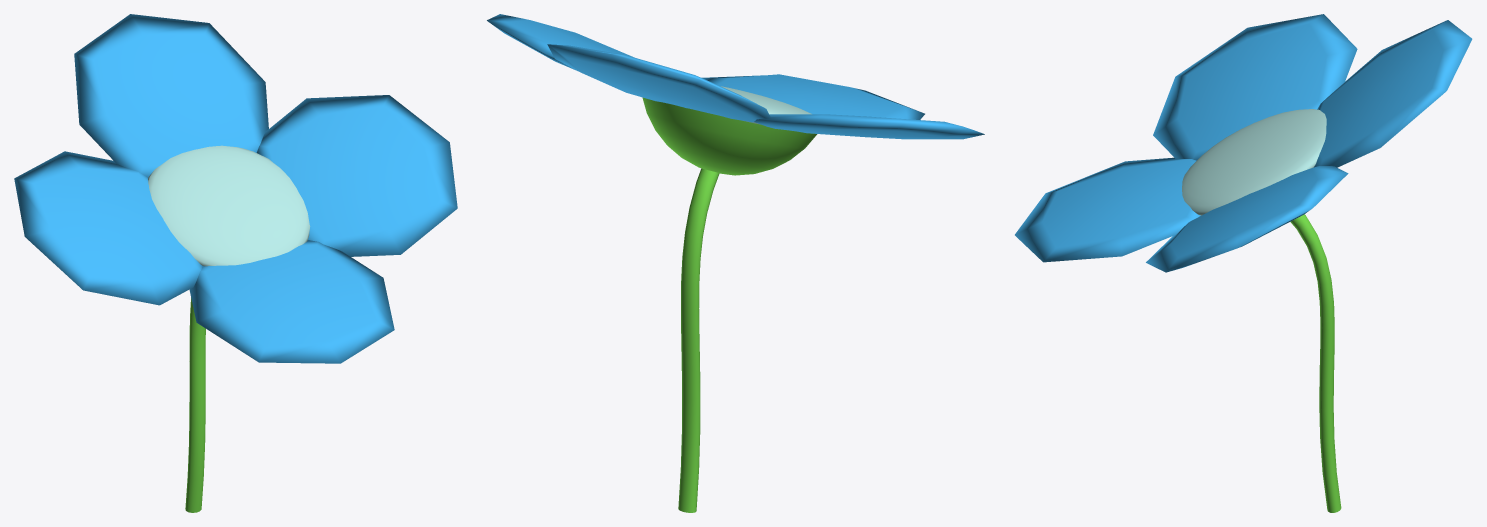
File: Flower_4.fbx
3 views of the same model, side by side, from view 1: azimuth 30°, elevation 25°; view 2: azimuth 150°, elevation 25°; view 3: azimuth 270°, elevation 25° (orthographic). The views are drawn at different scales.
Parts seen in each view (by area): view 1: ベジエカーブ; view 2: ベジエカーブ; view 3: ベジエカーブ.
Part boxes in pixels (box(x1,y1,x2,y2)): ベジエカーブ: box(14, 14, 457, 512); ベジエカーブ: box(487, 14, 984, 512); ベジエカーブ: box(1015, 14, 1472, 512).
Bounding box in the file's own units: 414 × 422 × 371.
